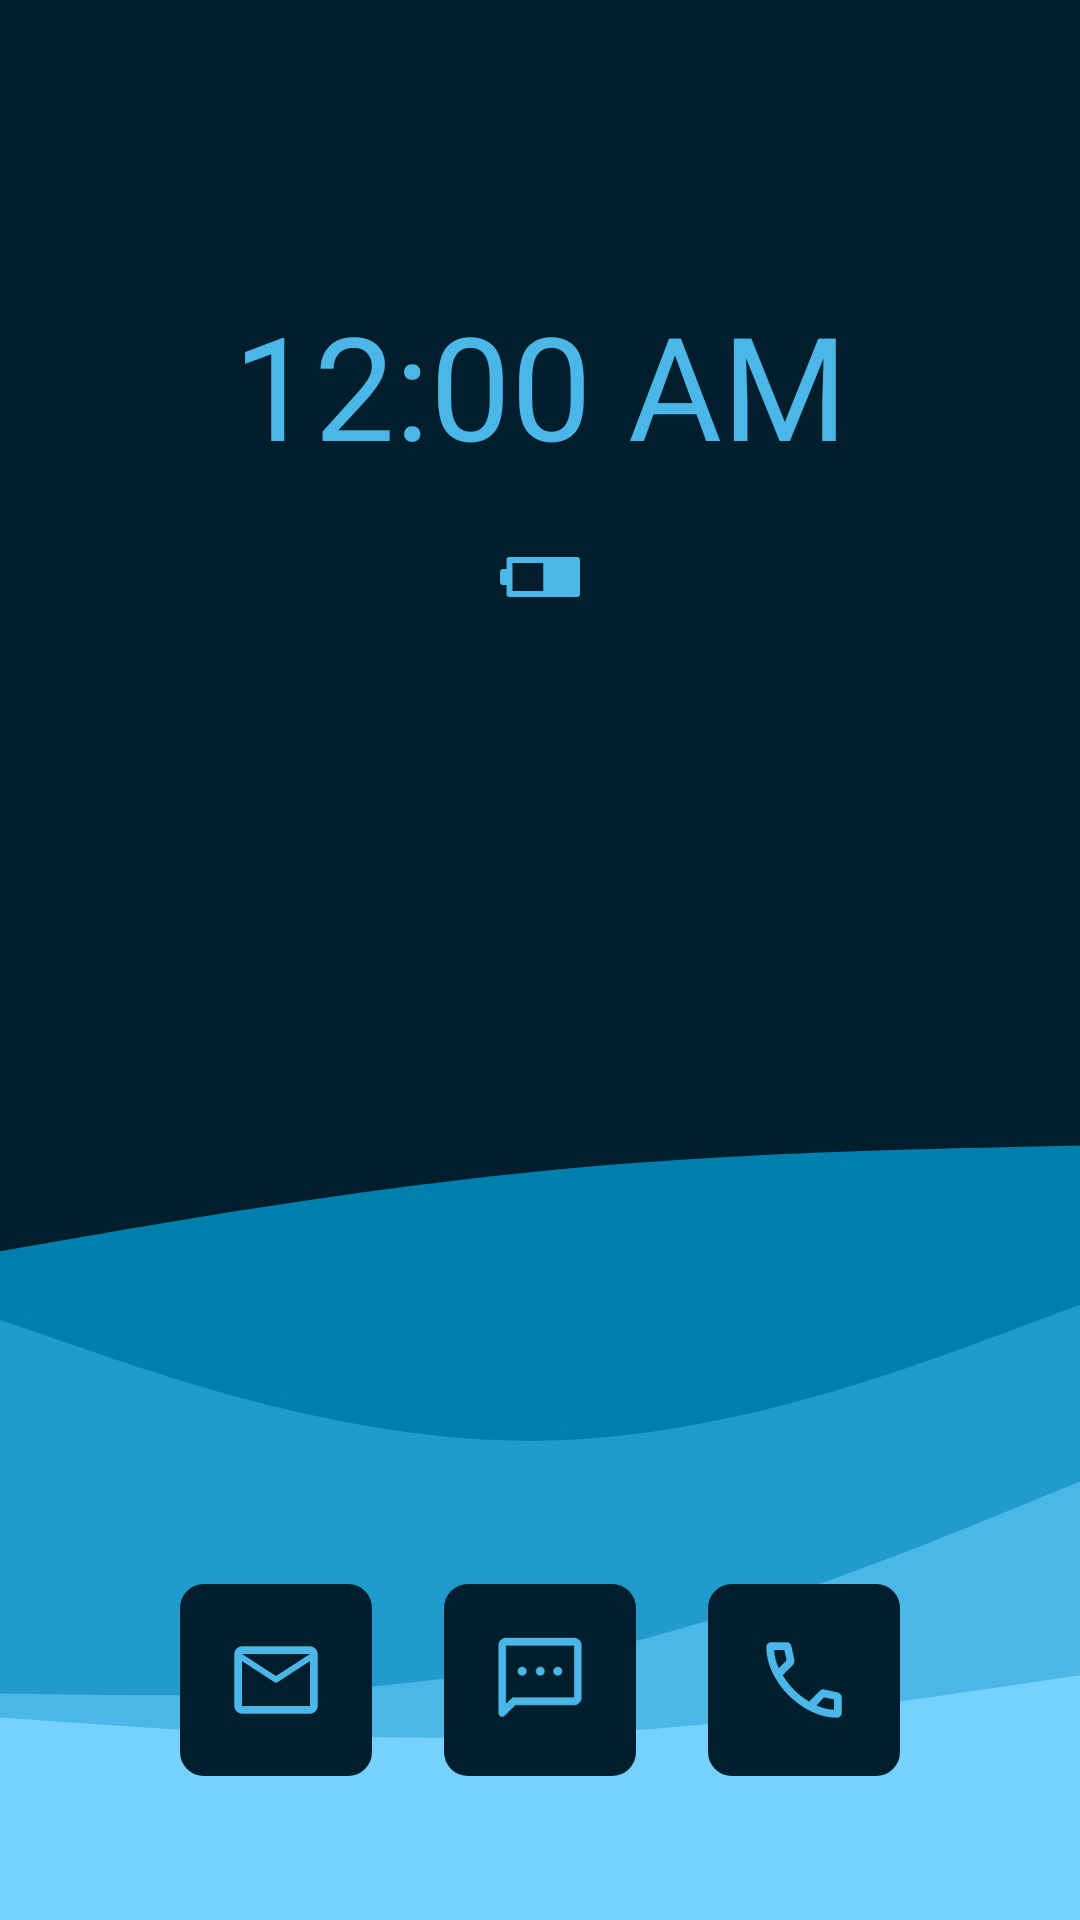

Icons on this 1080px x 1920px Android screen, each with the point to tap as [x,y]:
battery: [540,577]
email: [276,1680]
messages: [540,1680]
phone: [804,1680]
